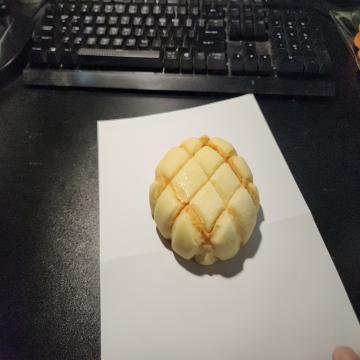melon_bread: (149, 134, 260, 266)
